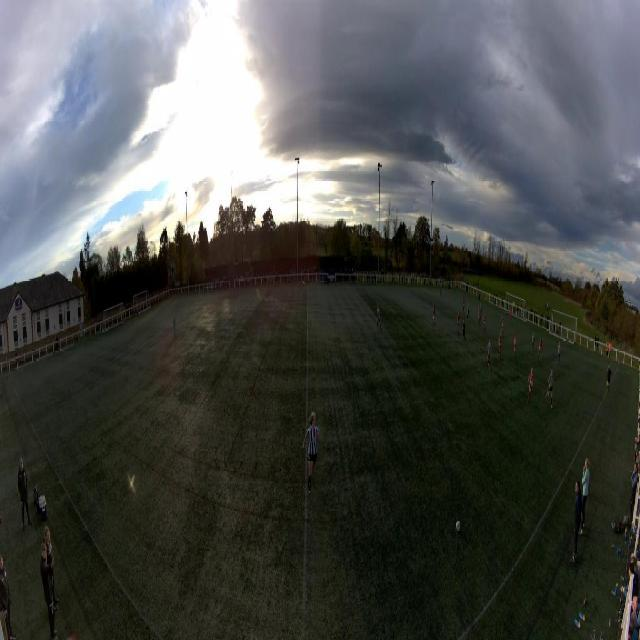ball: (456, 520, 461, 532)
player: (301, 411, 320, 499), (546, 370, 555, 408), (528, 367, 534, 403), (486, 338, 492, 368), (376, 304, 382, 331), (462, 319, 467, 345), (538, 338, 543, 362), (513, 331, 517, 359), (498, 332, 502, 359), (432, 305, 436, 330), (557, 341, 561, 366), (531, 333, 535, 355), (173, 314, 177, 336), (457, 312, 460, 336), (483, 312, 486, 336), (501, 315, 504, 335), (467, 301, 470, 320), (509, 308, 512, 324), (478, 303, 480, 324), (480, 302, 482, 321), (463, 297, 465, 315), (440, 283, 442, 297)
